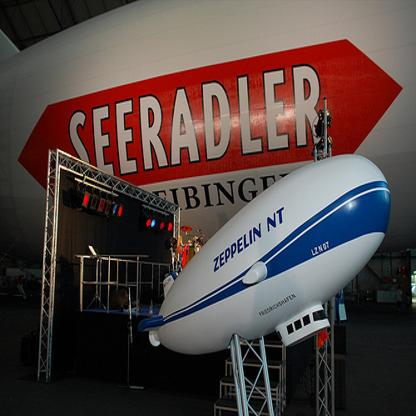Airship: (134, 153, 397, 362)
